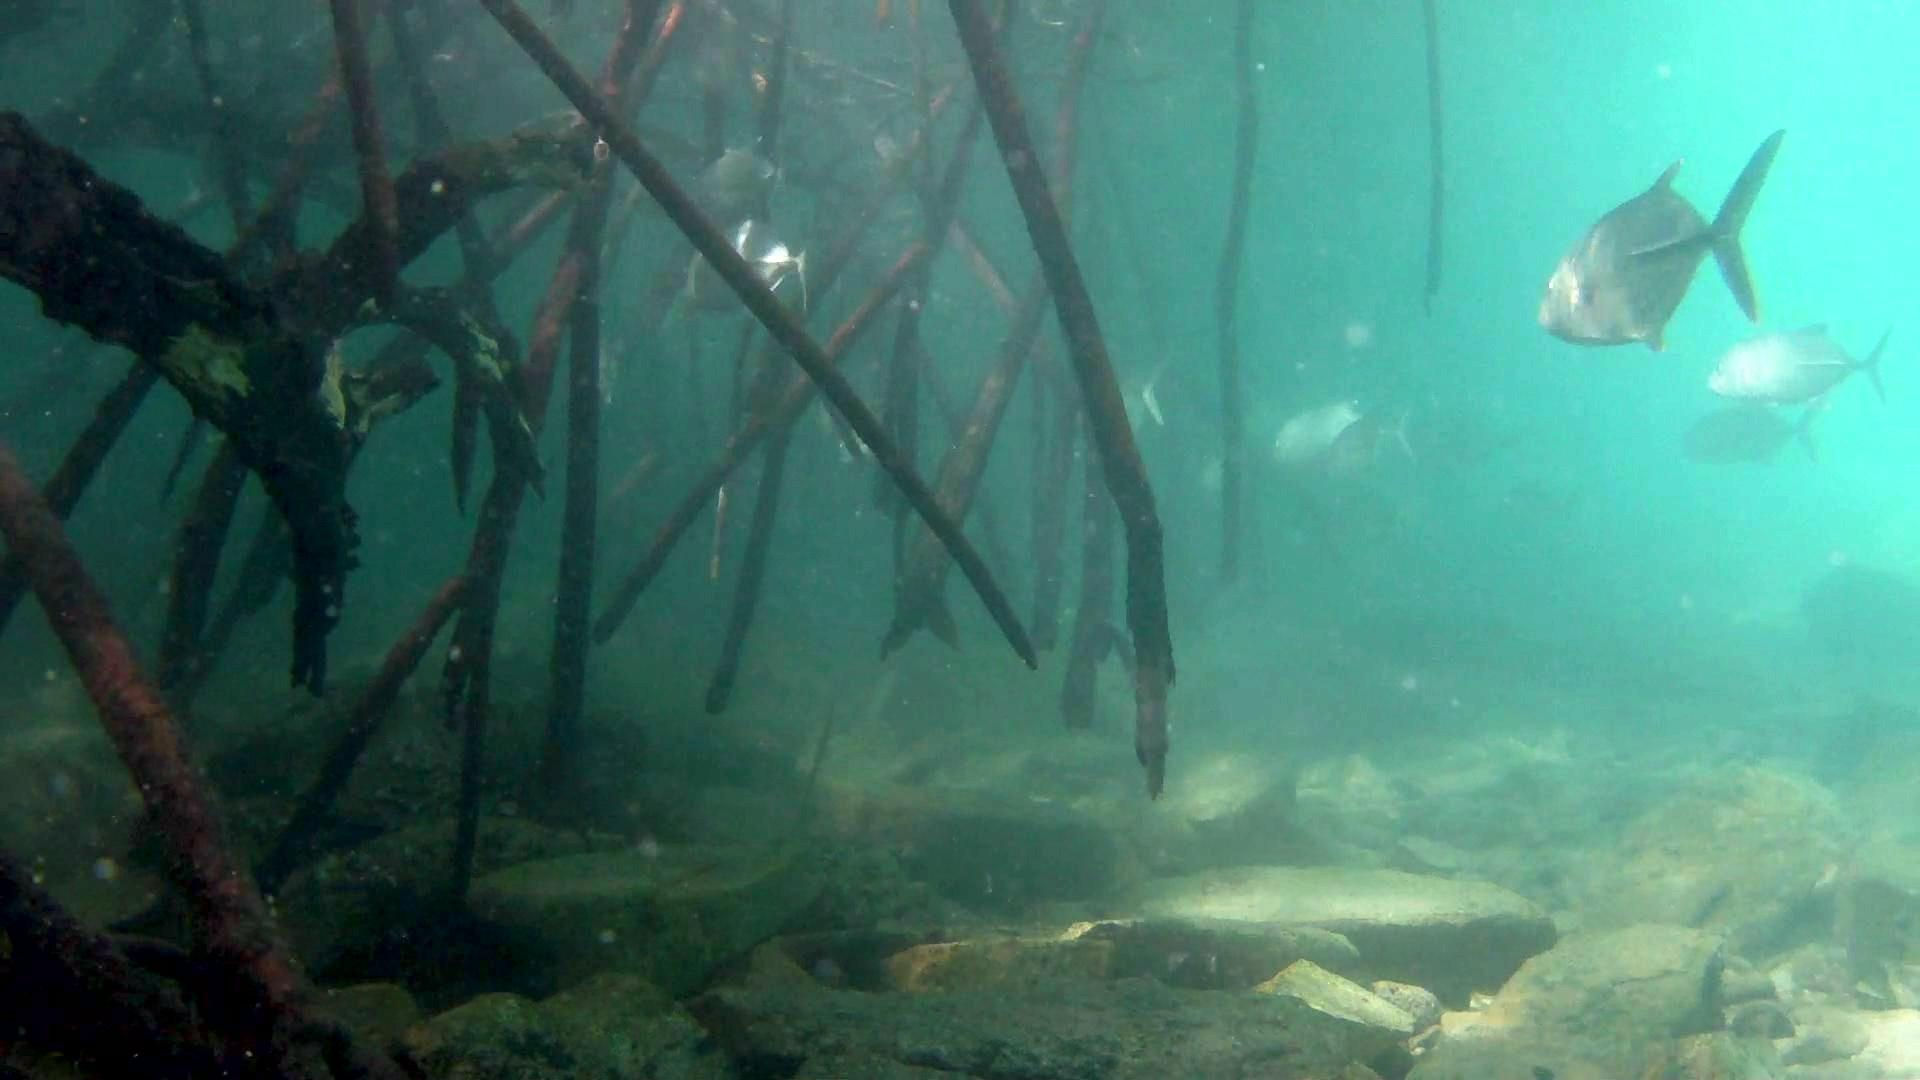caranx: (1520, 124, 1797, 365)
